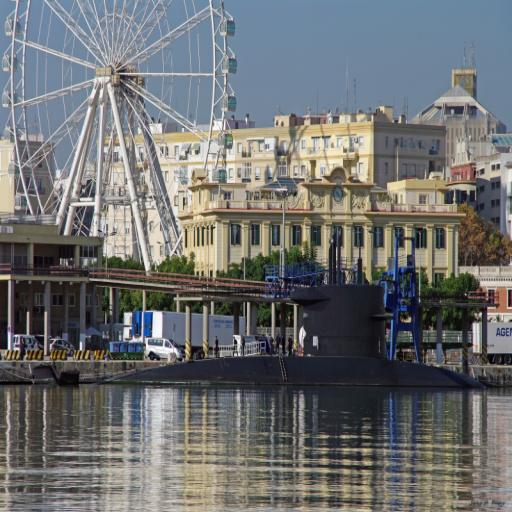submarine: (108, 285, 485, 388)
